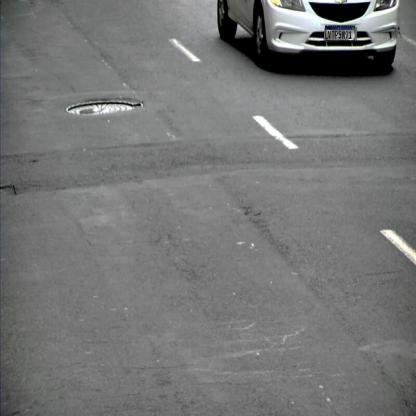PlacaM: (325, 26, 355, 41)
